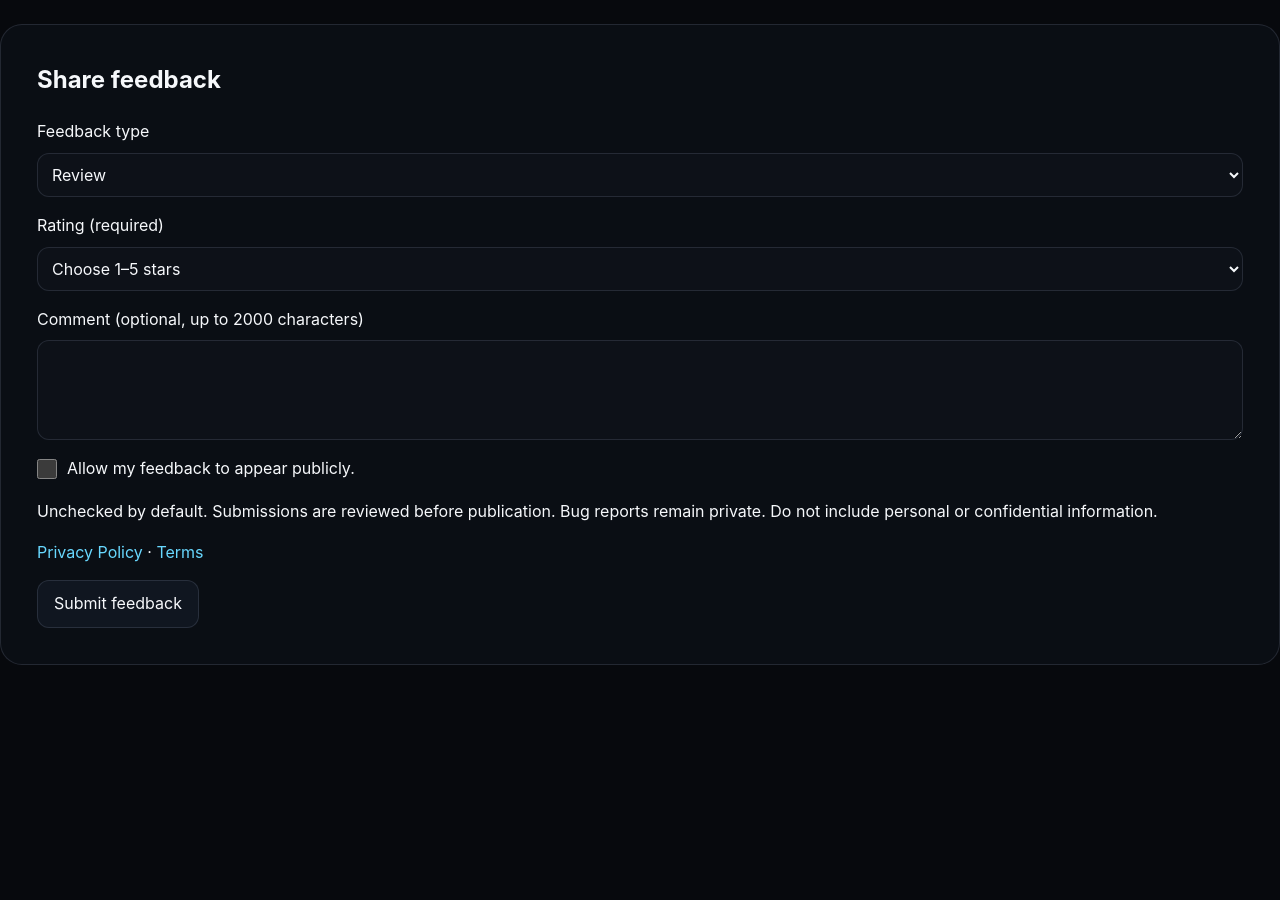
Test: feature consent is explicit and success never claims immediate publication
Select "Feature suggestion" in the dropdown labelled "Feedback type". click: (640,175)
box: [37,153,1243,197]
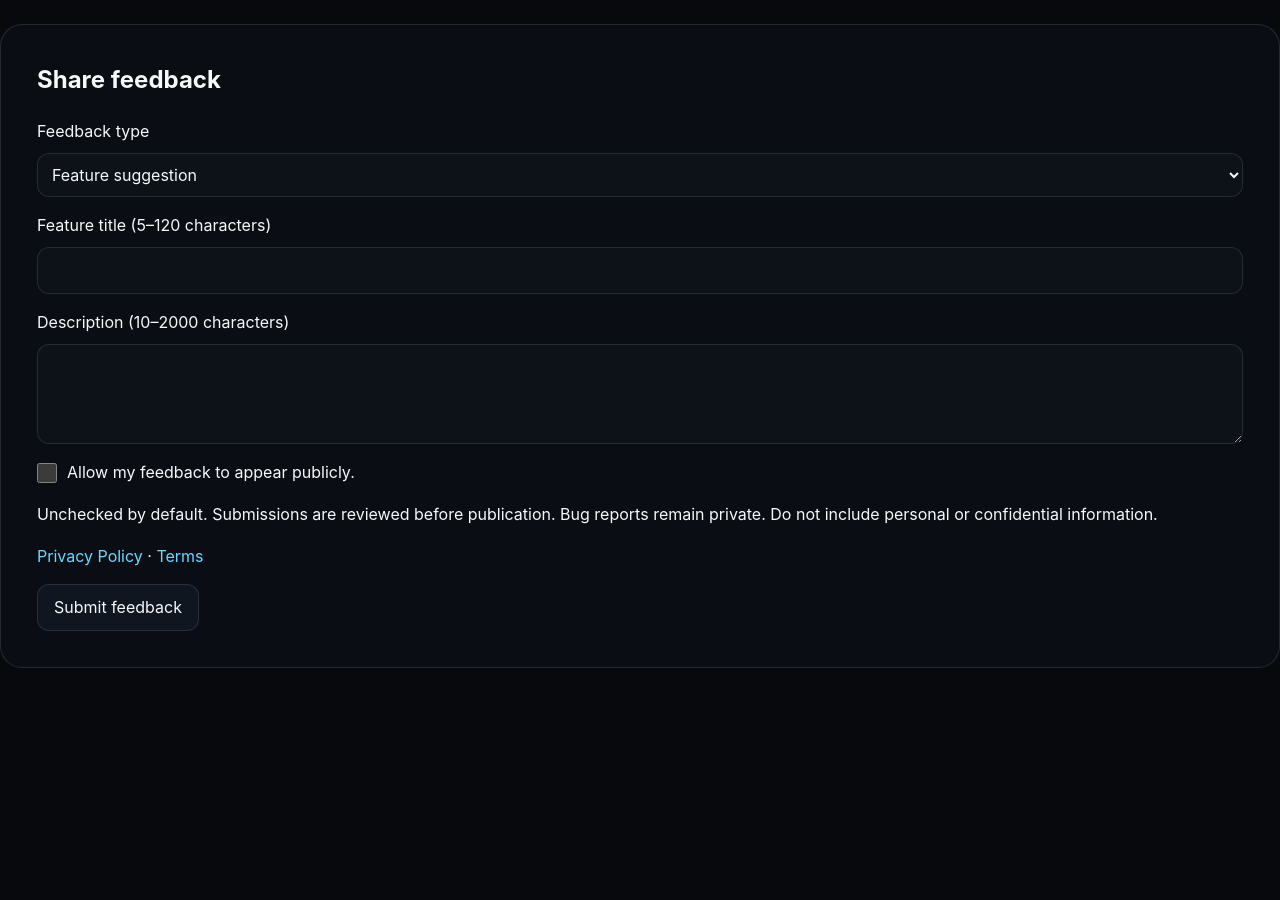
Type "New course sources" into the field labelled "Feature title (5–120 characters)". click: (640,270)
box: [37,247,1243,294]
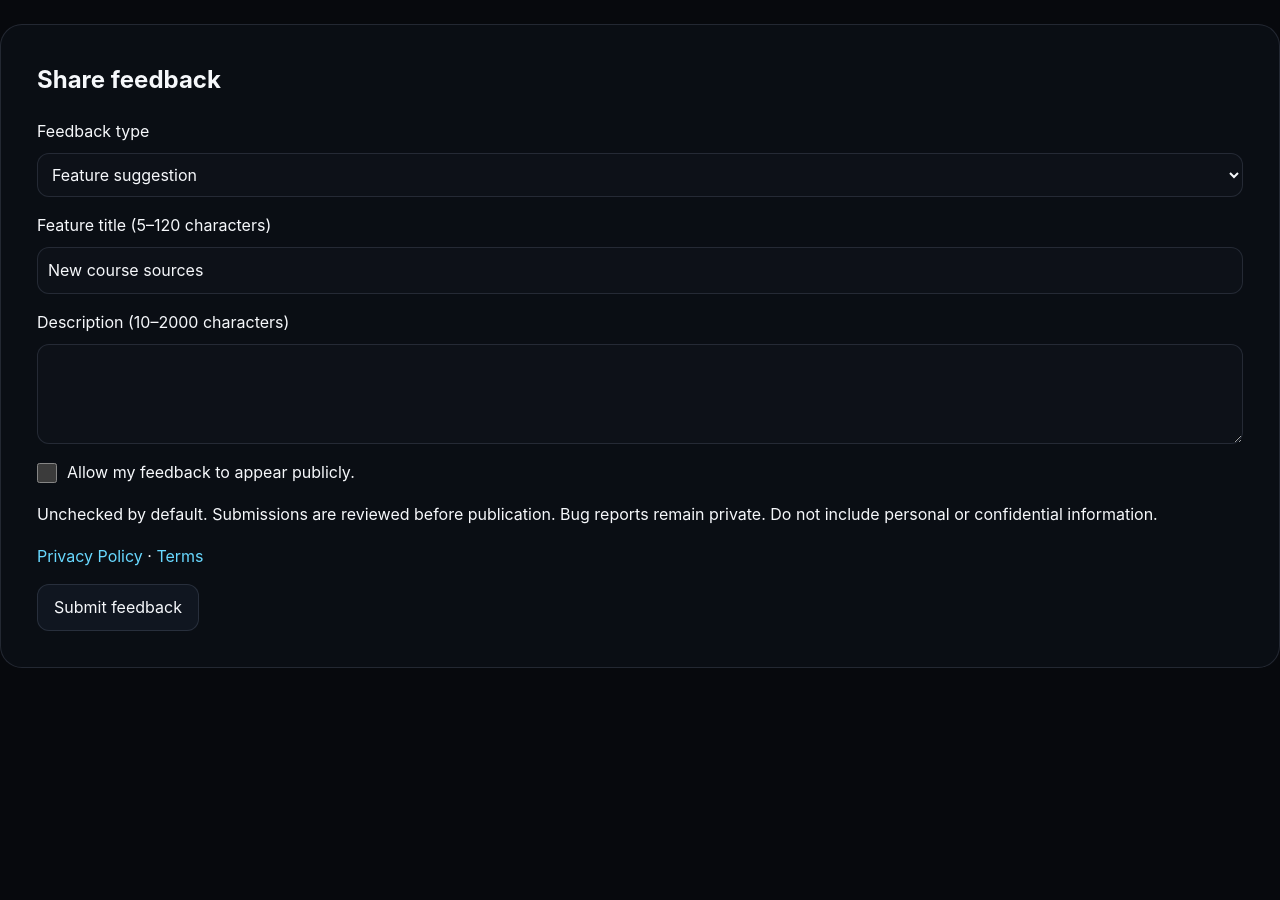
Type "Add more recently updated courses." into the text box labelled "Description (10–2000 characters)". click: (640,394)
box: [37,344,1243,444]
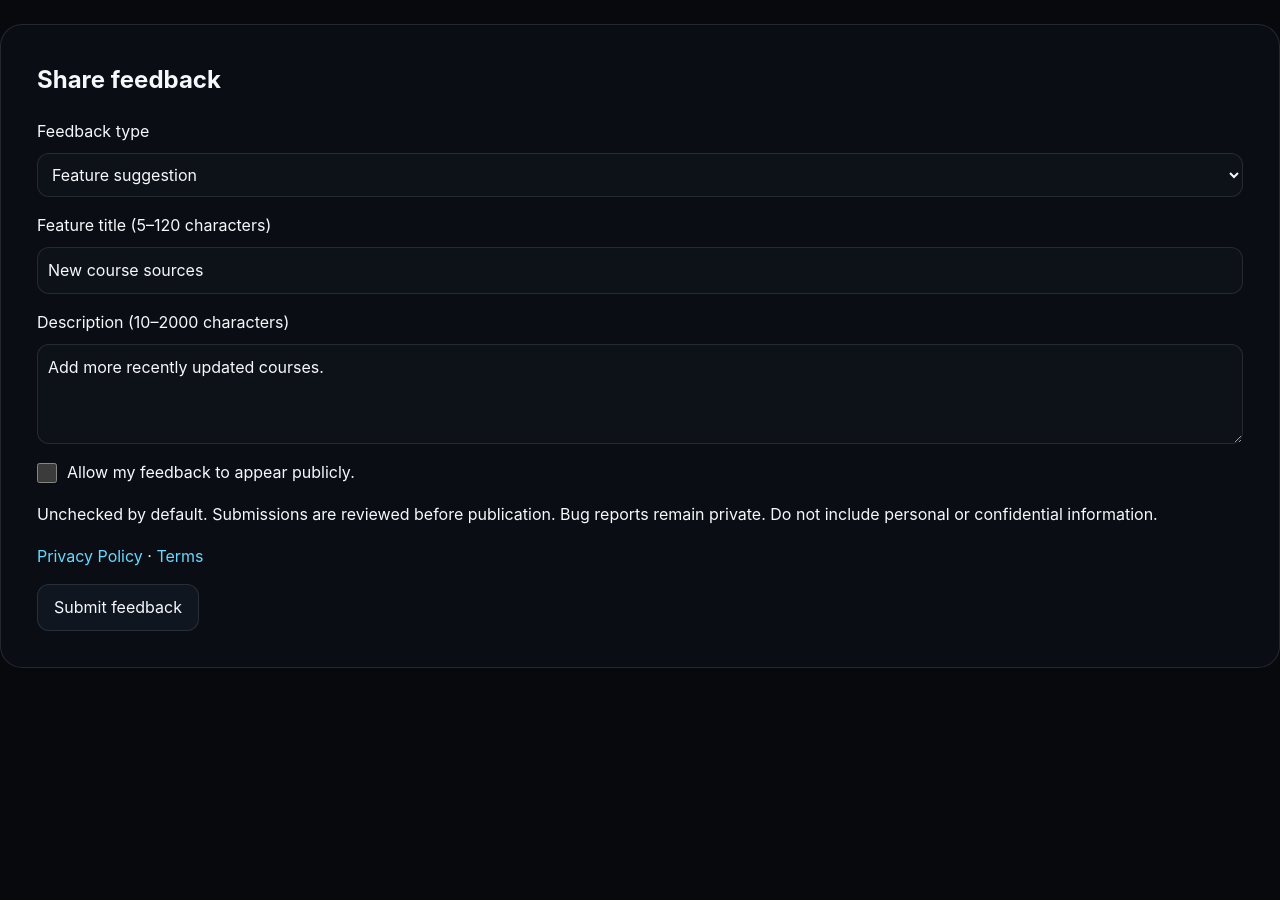
Click the checkbox labelled "Allow my feedback to appear publicly.". click: (47,473)
box: [37,463,57,483]
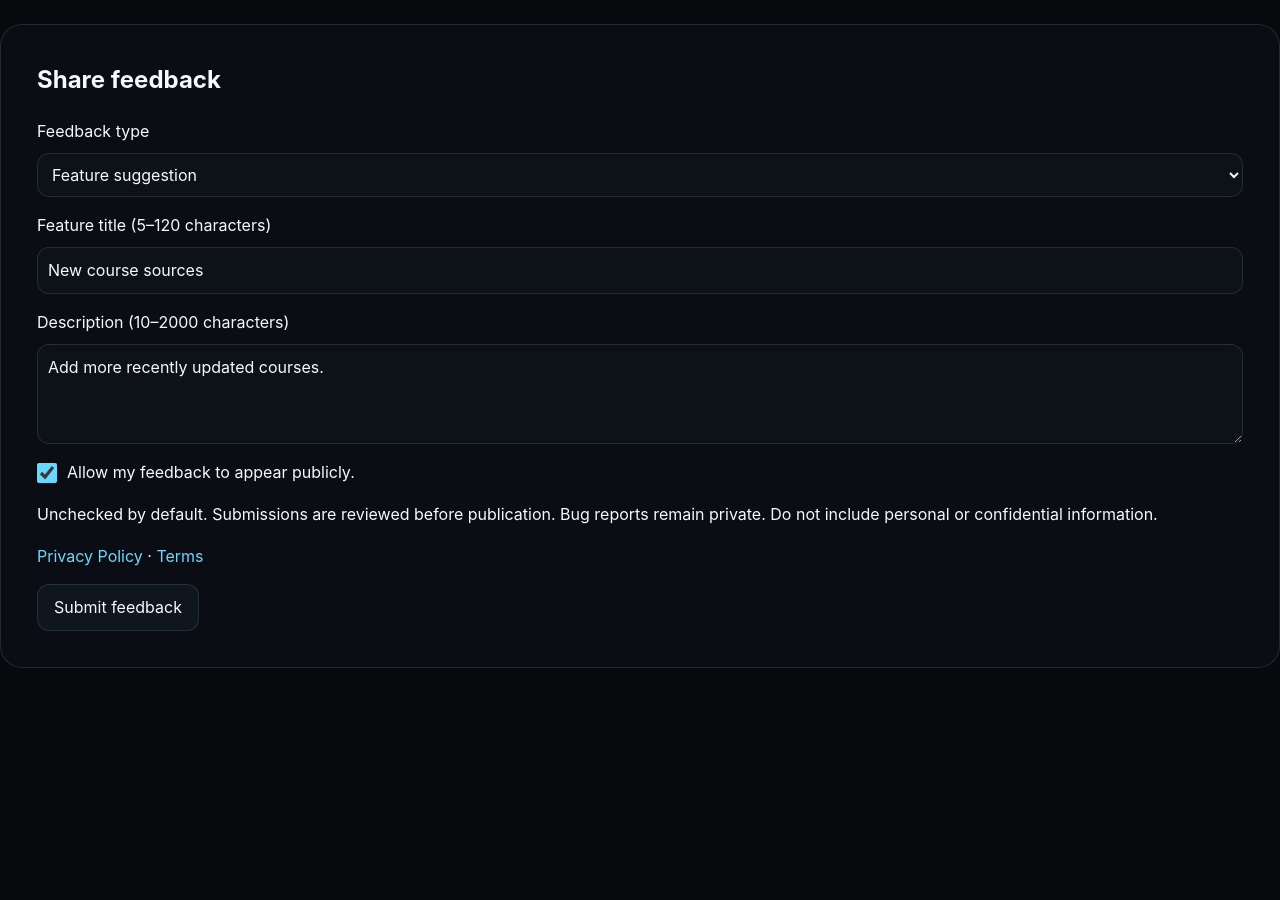
Submit the form, box [37,119,1243,631]
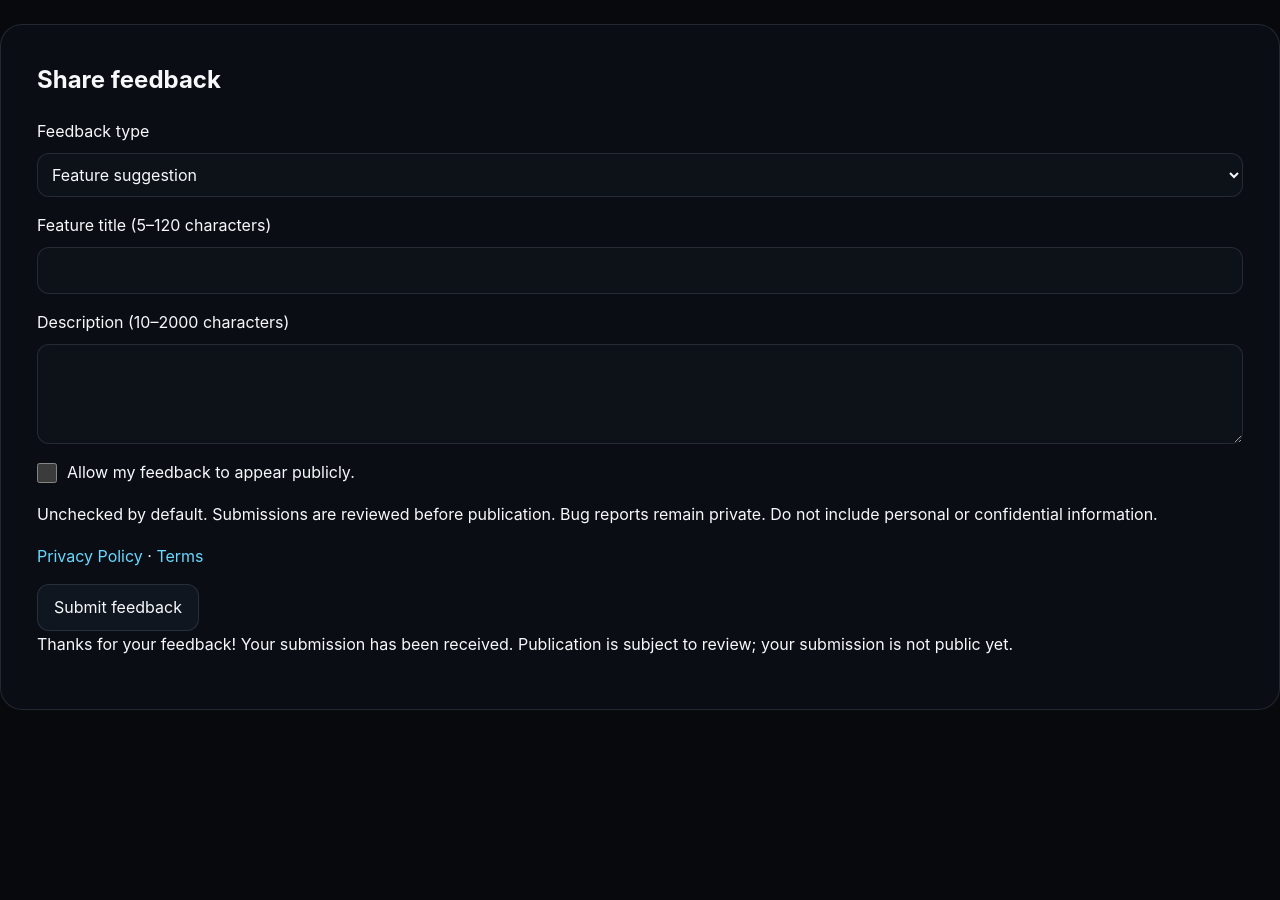
Result: the checkbox labelled "Allow my feedback to appear publicly." is not checked at [37,463,57,483]
Result: the text "Publication is subject to review; your submission is not public yet." is shown at [518,634,1013,654]
